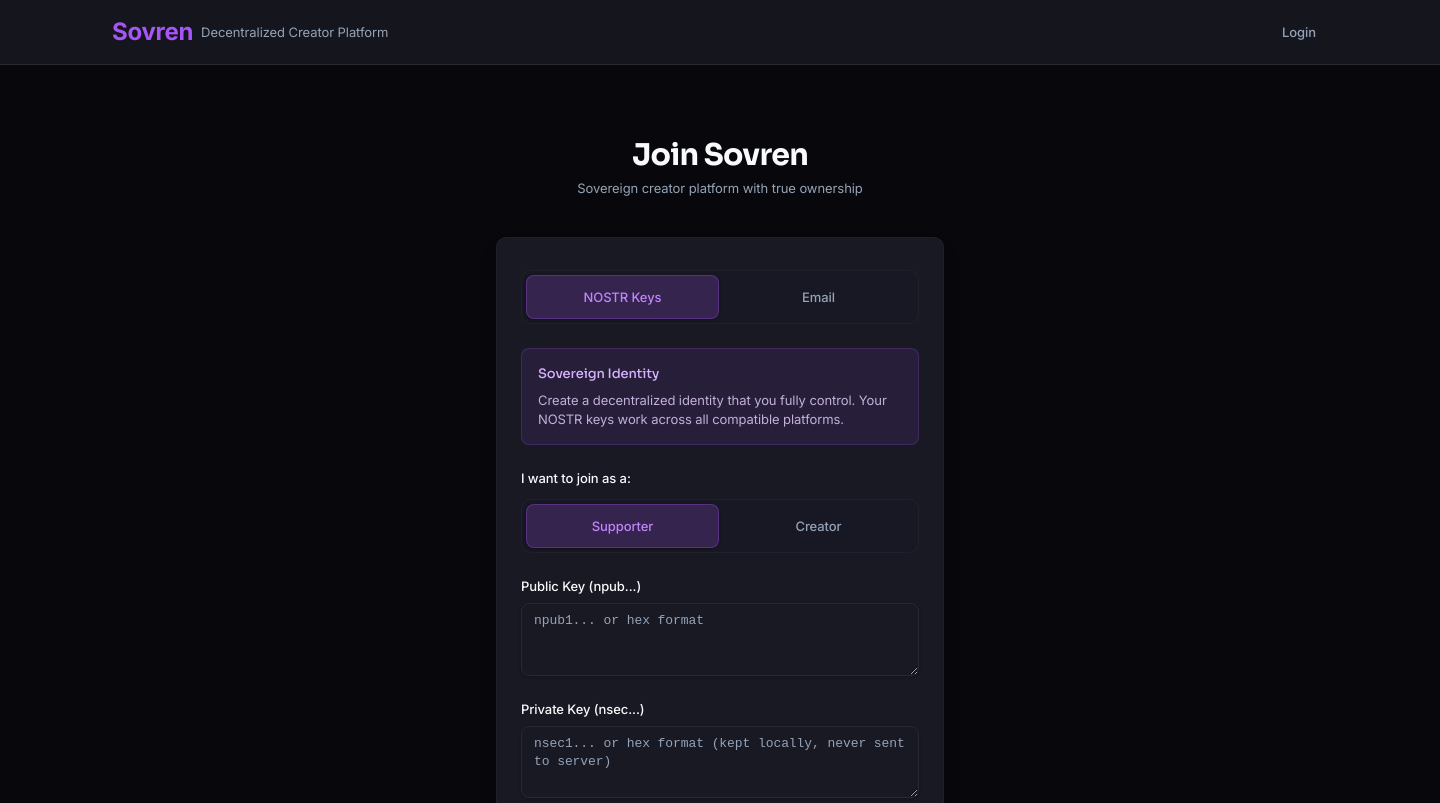
Signup Component › User Interactions › switches to email signup when email tab is clicked
Click the tab "Email": (818, 297) [723,275,914,319]
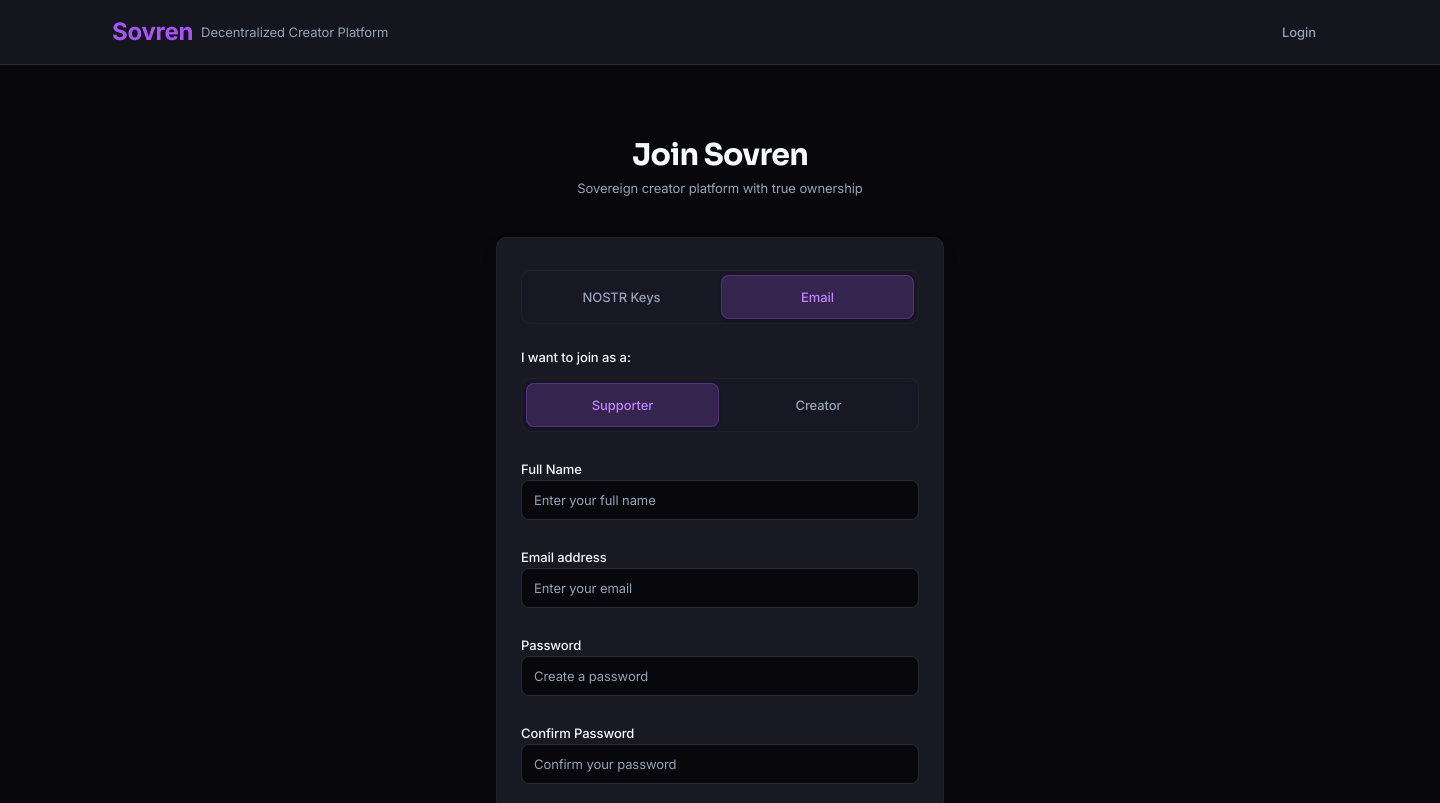
Expected: the field labelled "Full Name" is shown, [521,480,919,520]
Expected: the field labelled "Email address" is shown, [521,568,919,608]
Expected: the password field labelled "Password" is shown, [521,656,919,696]
